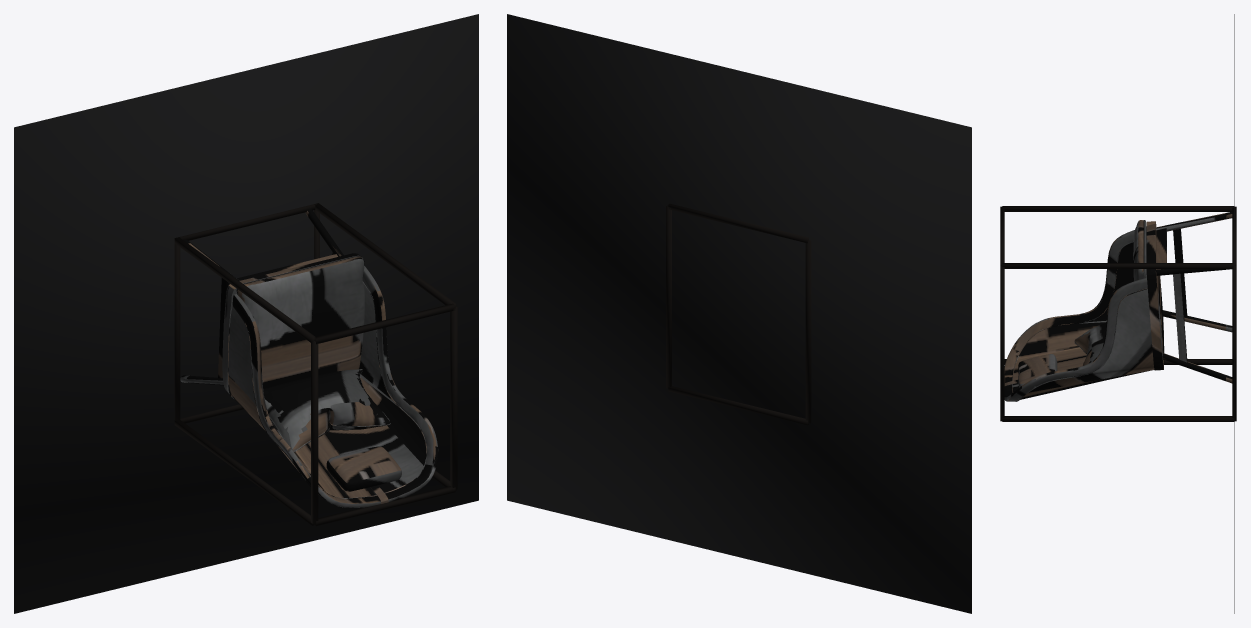
The picture shows the model from 3 angles, left to right: view 1: azimuth 30°, elevation 25°; view 2: azimuth 150°, elevation 25°; view 3: azimuth 270°, elevation 25°; orthographic projection. The views are drawn at different scales.
Bounding box in the file's own units: 2 × 2 × 1.05.
